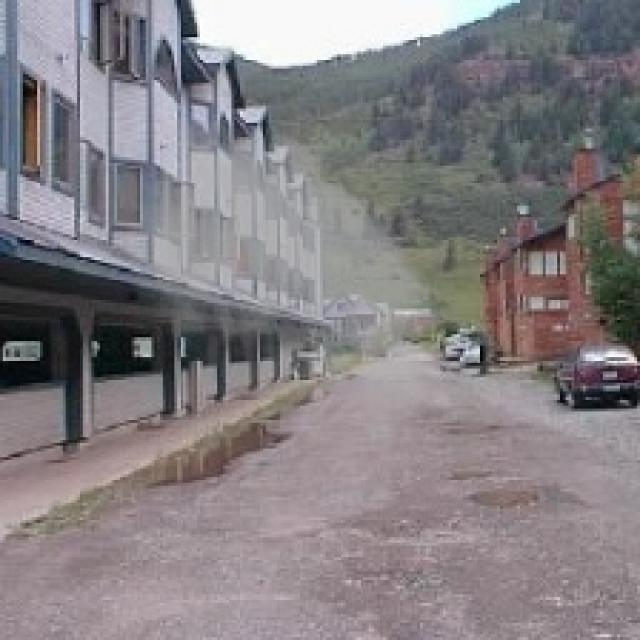Smoke: (106, 103, 477, 500)
